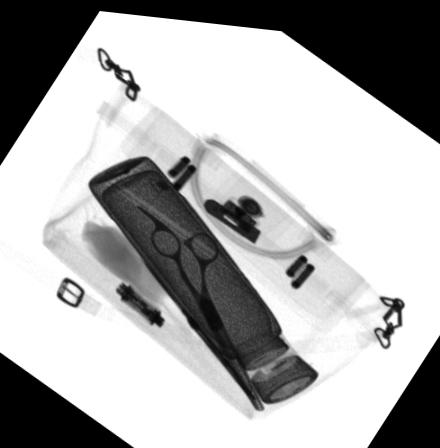Knife: (141, 256, 258, 394)
Scissors: (134, 198, 266, 404)
